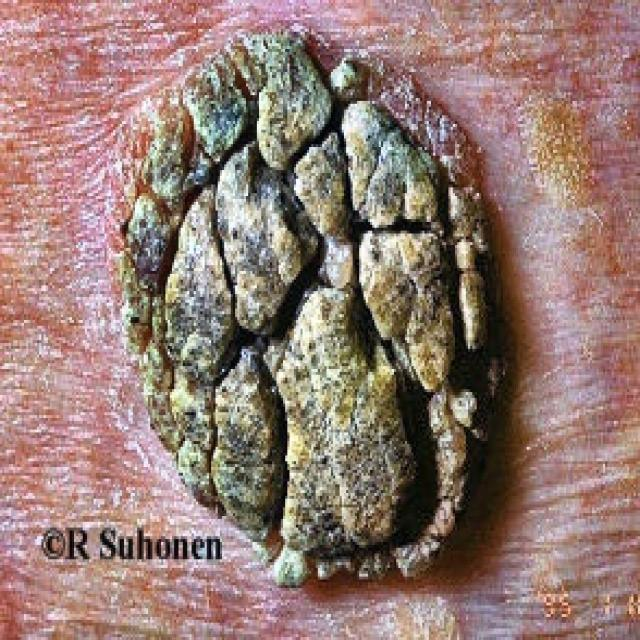Seborrheic-Keratoses-and-other-Benign-Tumors: (52, 40, 629, 616)
